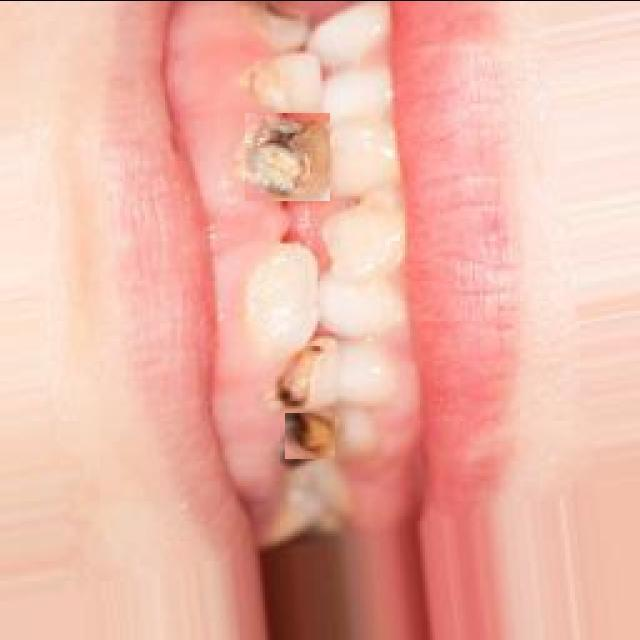caries: (245, 112, 330, 200), (275, 342, 327, 410), (285, 412, 335, 458)
